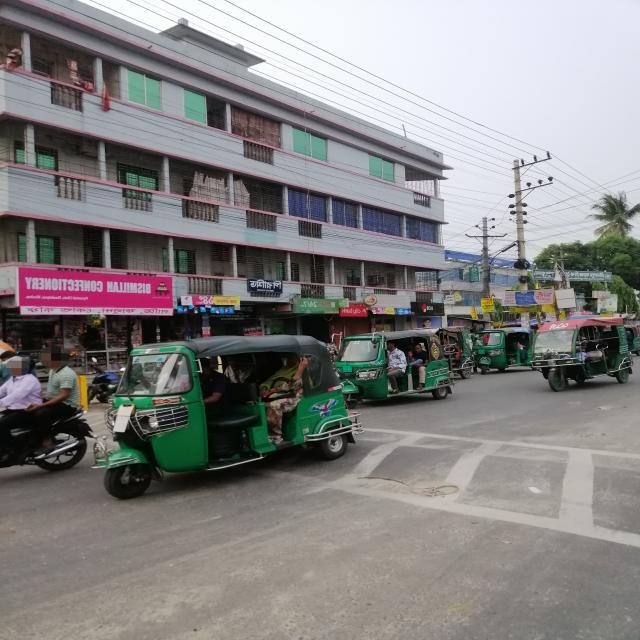CNG: (92, 339, 359, 505)
Easybike: (531, 318, 640, 395)
